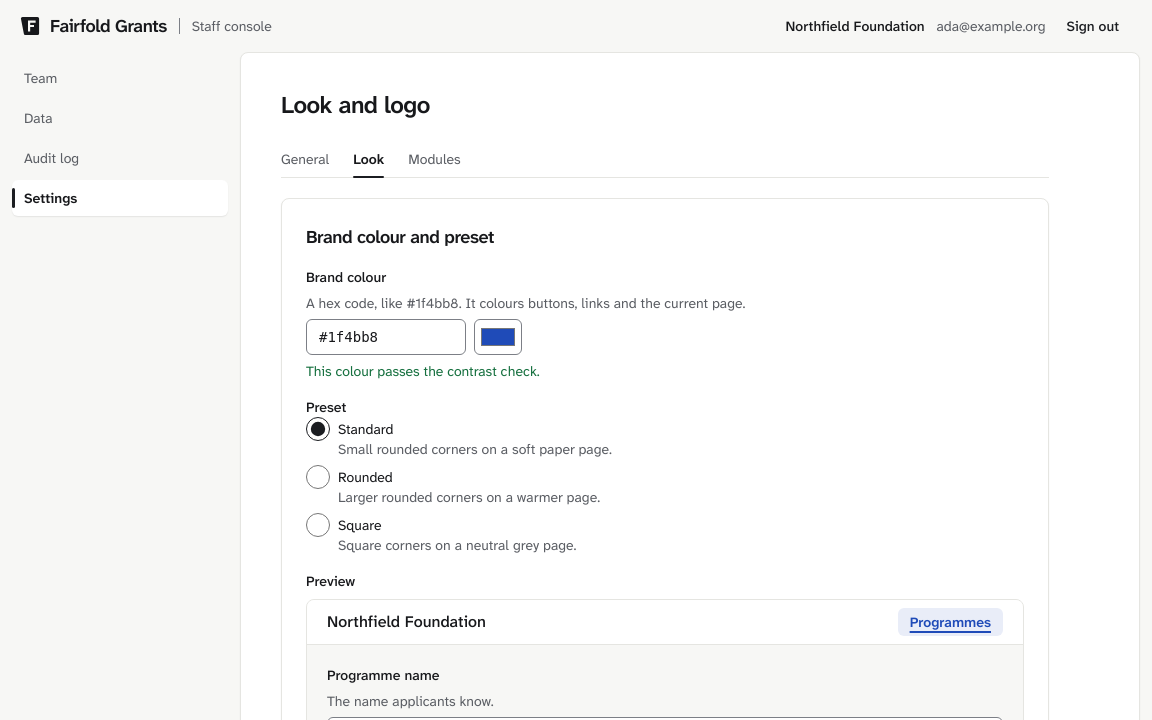
Test: the look page › puts the colour that passes in the field when the person uses it, and keeps focus there
Replace the text in the field labelled "Brand colour" with "#ffee00" at (386, 337), box [306,319,466,355]
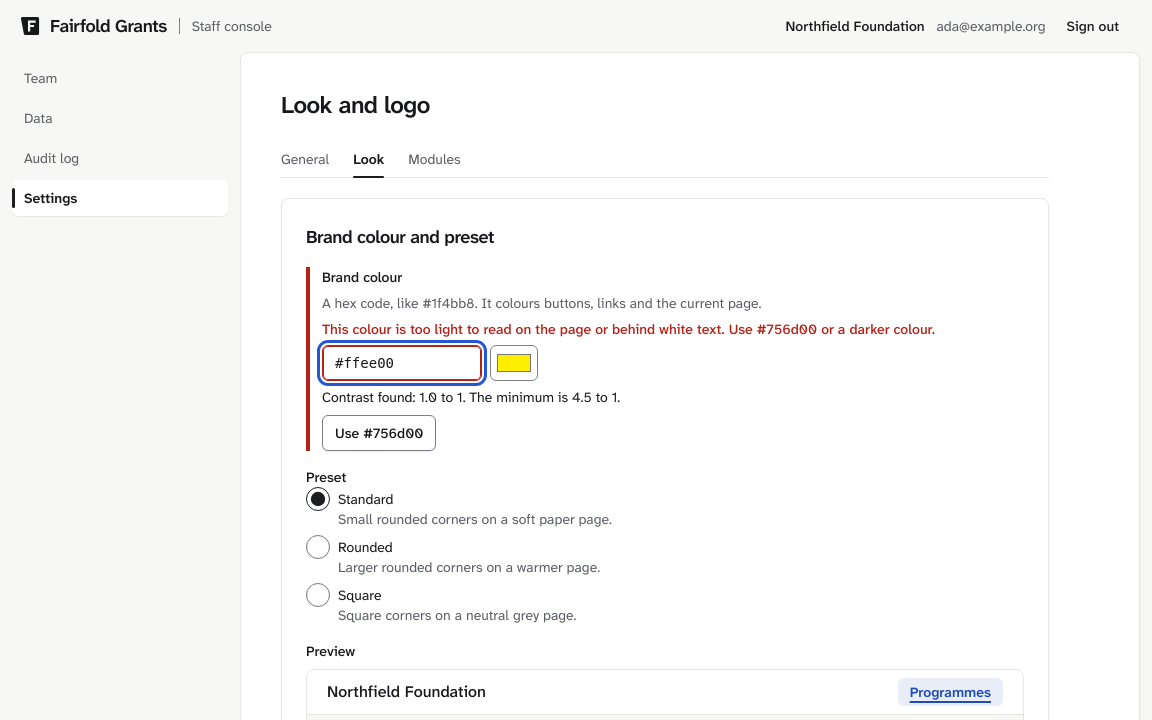
Click the button "Use #756d00" at (379, 433), box [322,415,436,451]
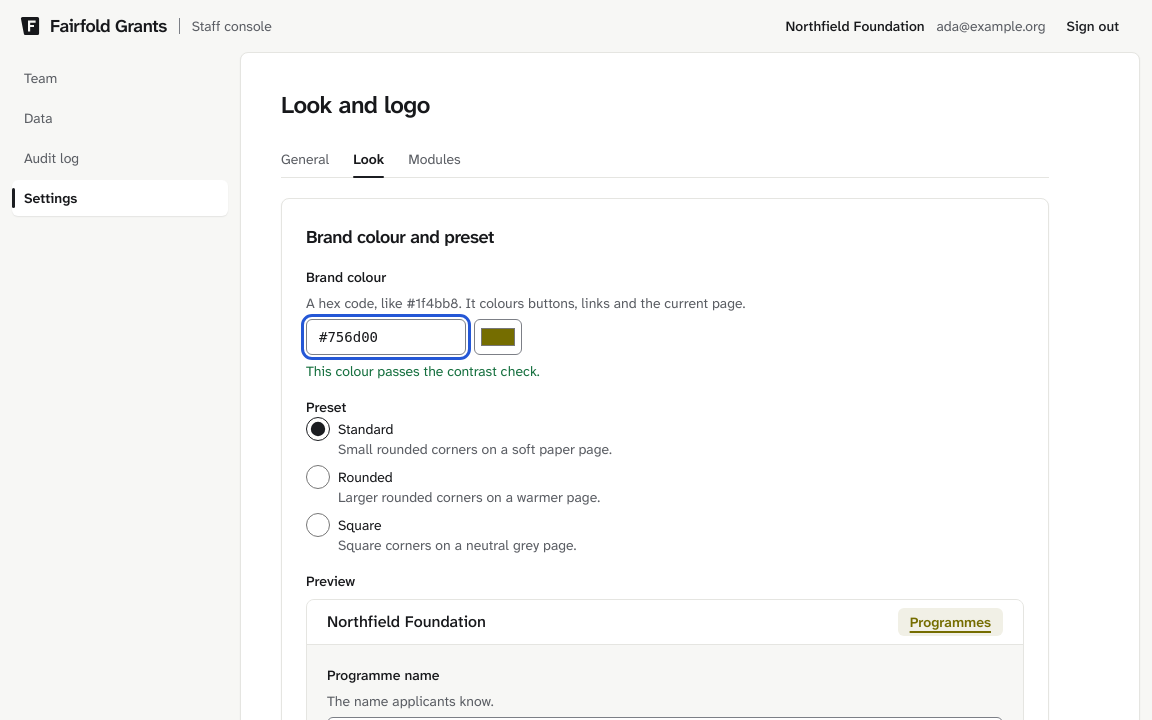
expect the field labelled "Brand colour" does not hold "#ffee00": met, box [306,319,466,355]
expect the text "Contrast found" is gone: met
expect the text "This colour passes the contrast check." is shown: met, box [306,361,540,381]
